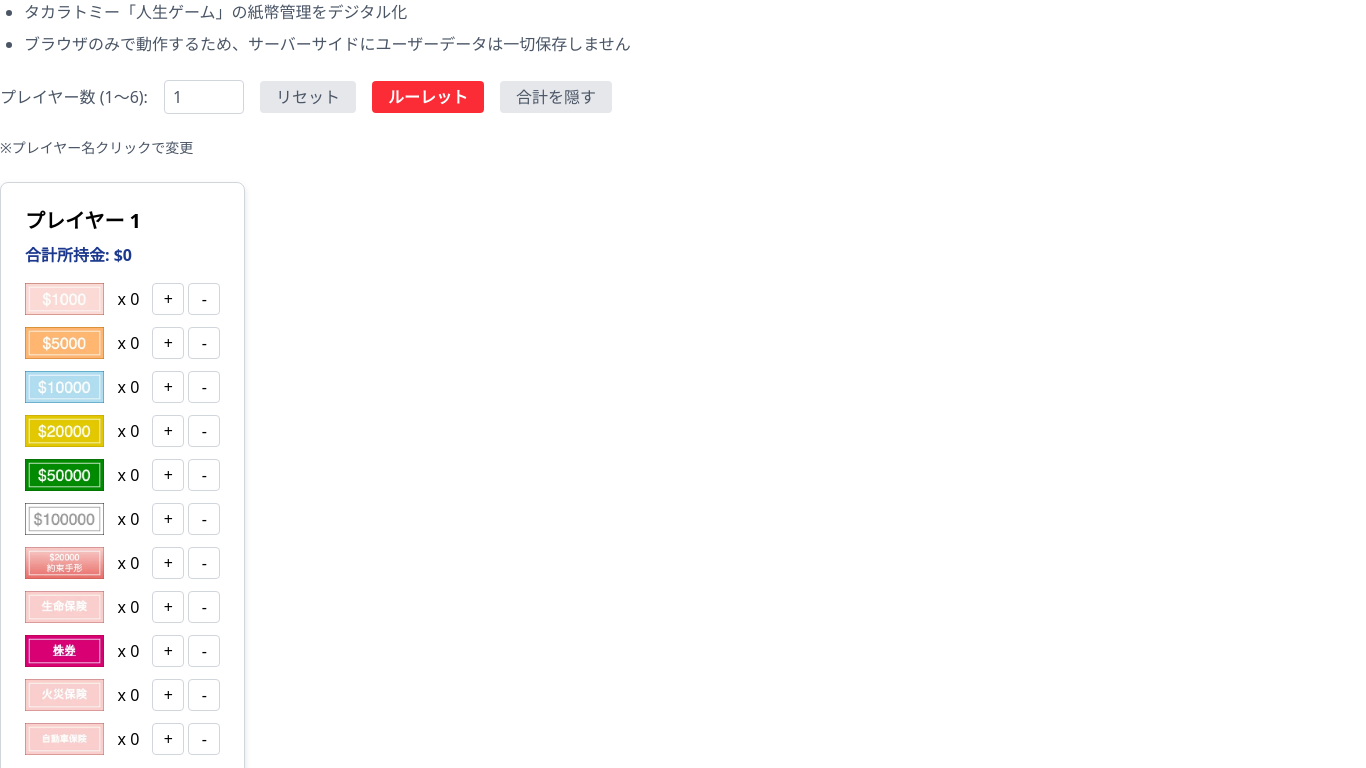
Test: MainContent › 「ルーレット」ボタン押下でモーダルが開く
Click the button "ルーレット": (428, 97) top-left (372, 81), bottom-right (484, 113)
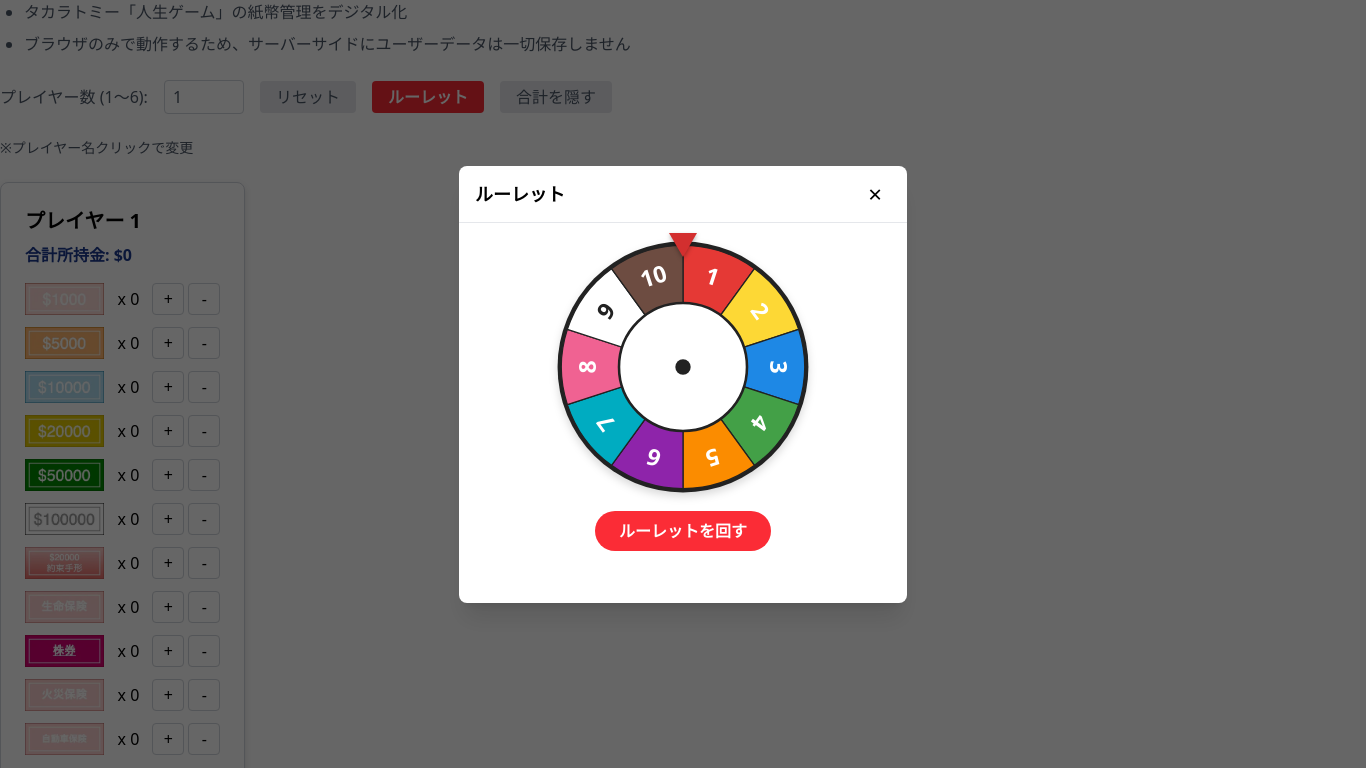
Result: the dialog is shown
Result: the button "ルーレットを回す" is shown at top-left (595, 510), bottom-right (771, 550)
